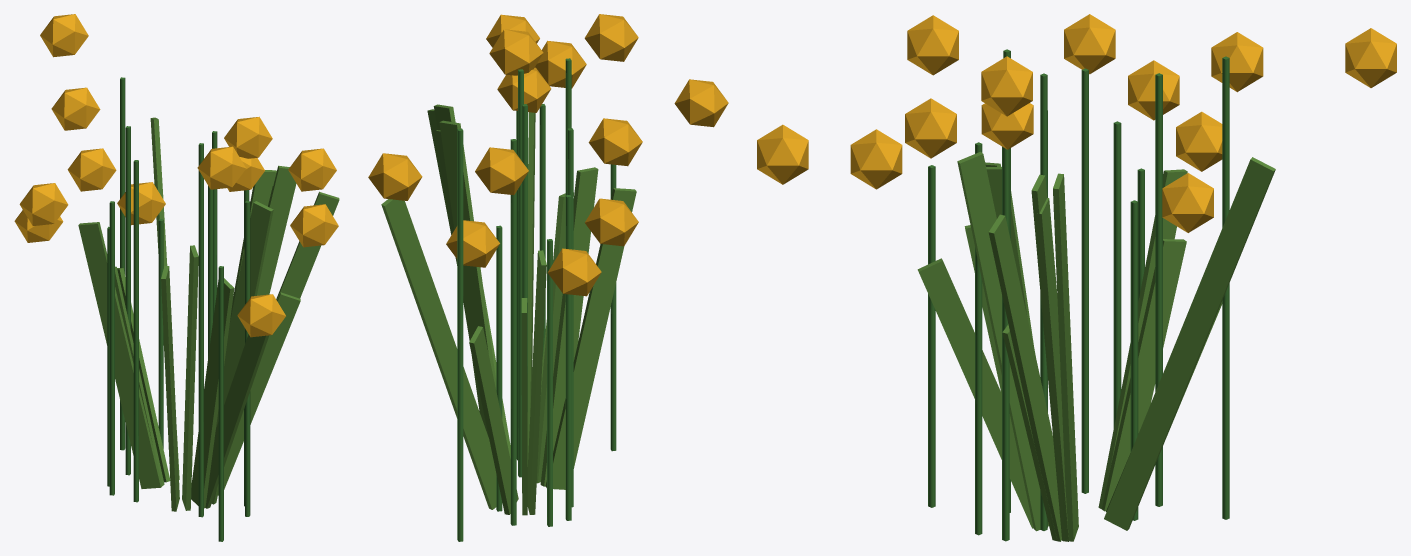
File: daylily.glb
3 renders of one model, left to right at view 1: azimuth 30°, elevation 25°; view 2: azimuth 150°, elevation 25°; view 3: azimuth 270°, elevation 25°, orthographic. The views are drawn at different scales.
Visible parts, largest first — view 1: daylily; view 2: daylily; view 3: daylily.
Boxes of the visible parts, x1,y1,x2,y2 form: daylily: (14,14,339,541); daylily: (368,14,728,541); daylily: (757,14,1396,541).
Bounding box in the file's own units: 0.469 × 0.7101 × 0.8411.
